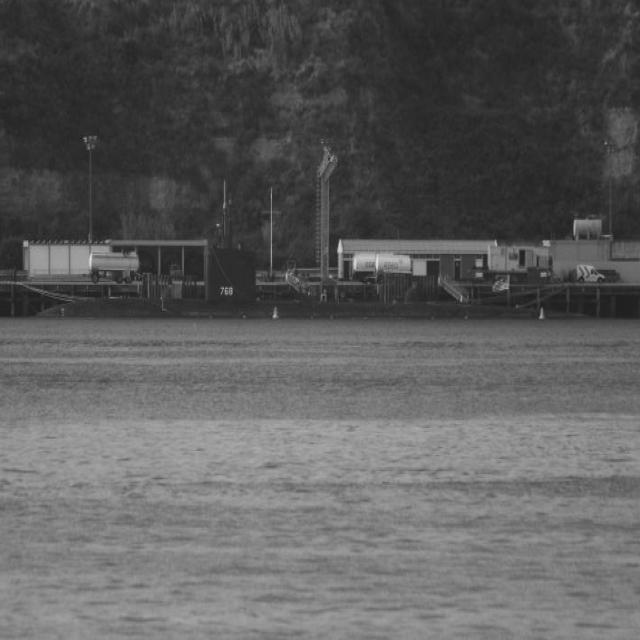submarine: (35, 177, 583, 319)
